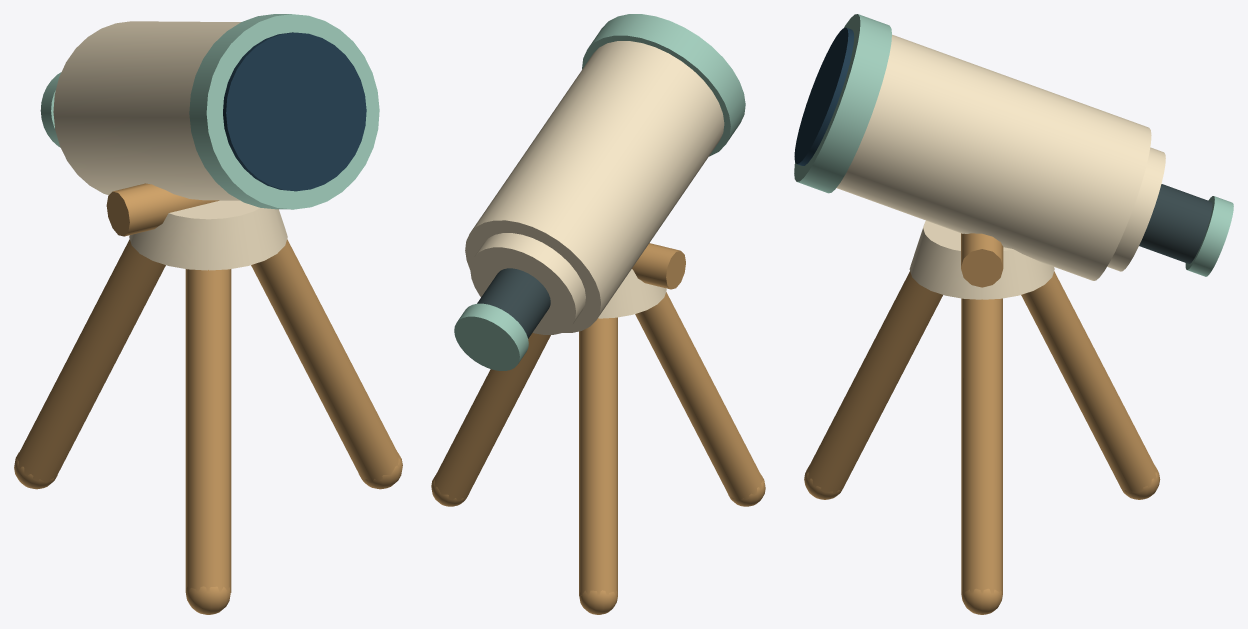
Rendered from telescope.glb.
3 views of the same model, side by side, from view 1: azimuth 30°, elevation 25°; view 2: azimuth 150°, elevation 25°; view 3: azimuth 270°, elevation 25° (orthographic). The views are drawn at different scales.
Parts seen in each view (by area): view 1: Telescope_tube, Telescope_objective, Telescope_leg_1, Telescope_front_rim, Telescope_leg_2, Telescope_leg_0, Telescope_mount, Telescope_fork, Telescope_foot_1, Telescope_eyecup; view 2: Telescope_tube, Telescope_leg_2, Telescope_leg_1, Telescope_leg_0, Telescope_front_rim, Telescope_rear_cap, Telescope_eyecup, Telescope_eyepiece, Telescope_fork, Telescope_mount, Telescope_foot_2; view 3: Telescope_tube, Telescope_leg_0, Telescope_leg_1, Telescope_leg_2, Telescope_front_rim, Telescope_mount, Telescope_eyepiece, Telescope_objective, Telescope_rear_cap, Telescope_fork, Telescope_eyecup, Telescope_foot_0.
Part boxes in pixels (box(x1,y1,x2,y2)): Telescope_tube: box(53, 21, 240, 200); Telescope_objective: box(223, 32, 366, 191); Telescope_leg_1: box(185, 269, 231, 592); Telescope_front_rim: box(189, 14, 379, 209); Telescope_leg_2: box(15, 239, 165, 482); Telescope_leg_0: box(251, 239, 401, 482); Telescope_mount: box(129, 200, 287, 270); Telescope_fork: box(106, 183, 219, 236); Telescope_foot_1: box(186, 586, 230, 614); Telescope_eyecup: box(40, 72, 61, 147); Telescope_tube: box(465, 41, 724, 332); Telescope_leg_2: box(579, 317, 617, 595); Telescope_leg_1: box(635, 292, 763, 500); Telescope_leg_0: box(432, 333, 550, 500); Telescope_front_rim: box(582, 14, 745, 156); Telescope_rear_cap: box(470, 233, 585, 334); Telescope_eyecup: box(454, 303, 528, 370); Telescope_eyepiece: box(477, 268, 550, 338); Telescope_fork: box(632, 243, 685, 289); Telescope_mount: box(598, 269, 666, 318); Telescope_foot_2: box(579, 590, 617, 614); Telescope_tube: box(836, 34, 1151, 280); Telescope_leg_0: box(961, 298, 1002, 594); Telescope_leg_1: box(806, 271, 942, 493); Telescope_leg_2: box(1021, 271, 1158, 493); Telescope_front_rim: box(794, 14, 891, 193); Telescope_mount: box(909, 220, 1054, 299); Telescope_eyepiece: box(1139, 184, 1212, 263); Telescope_objective: box(794, 27, 854, 165); Telescope_rear_cap: box(1107, 147, 1165, 271); Telescope_fork: box(961, 233, 1003, 287); Telescope_eyecup: box(1185, 196, 1233, 276); Telescope_foot_0: box(961, 588, 1002, 614).
Size of the model in its own units: 0.692 by 1.25 by 0.969.
